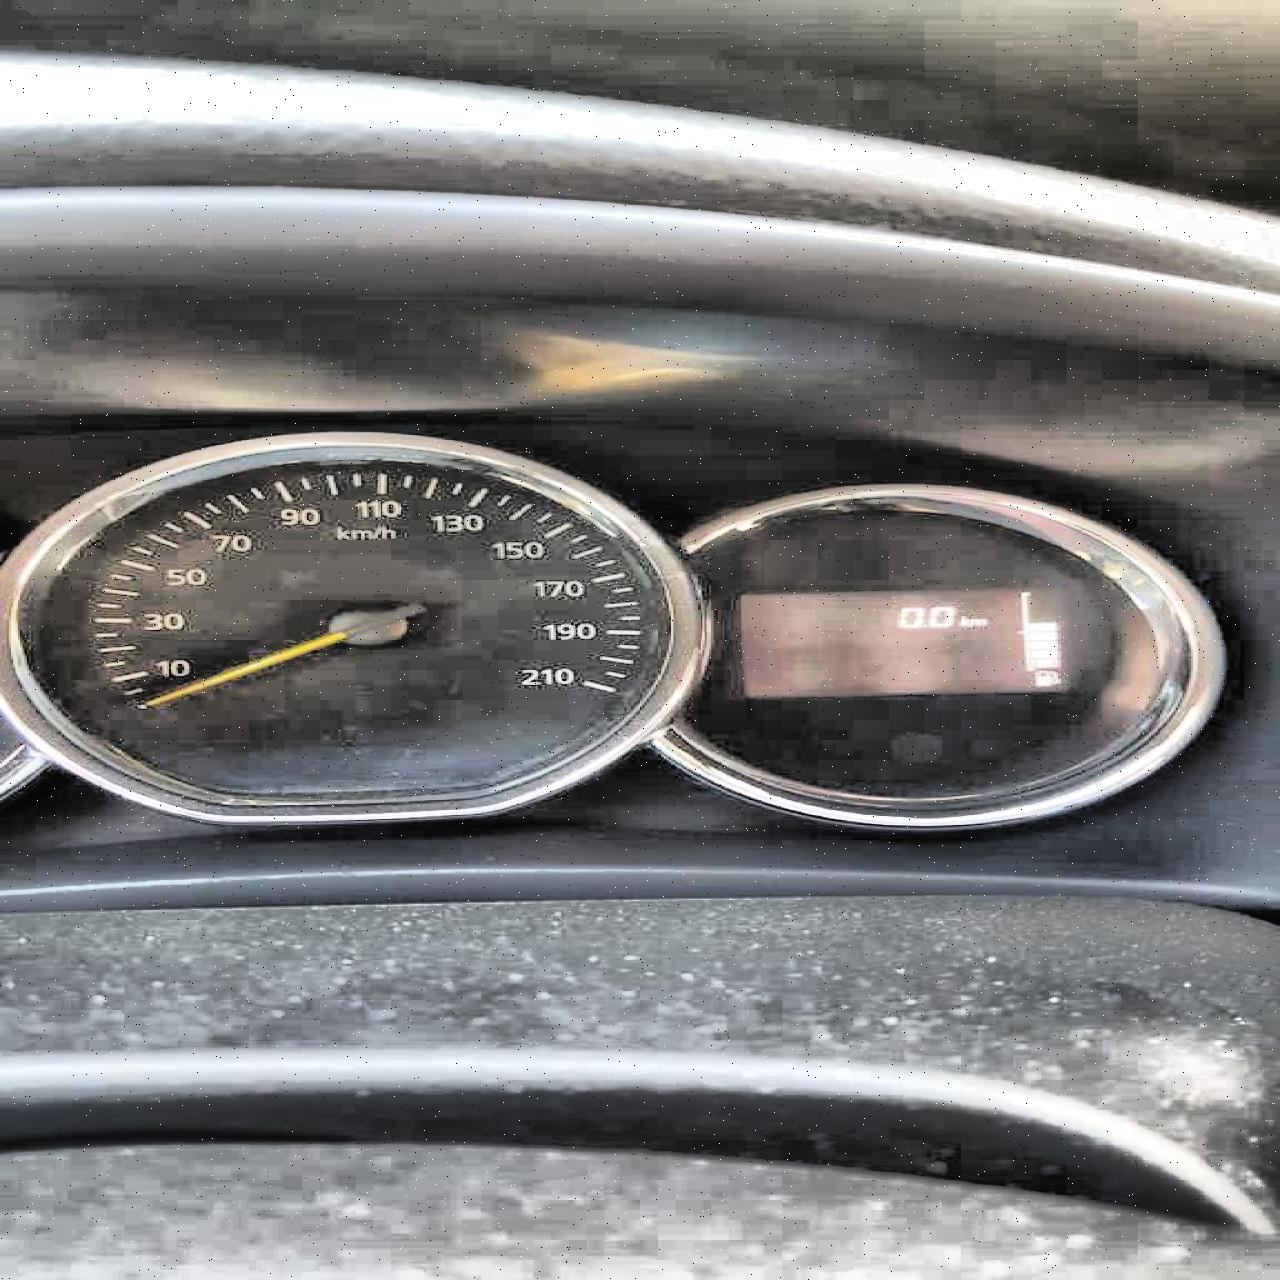-: (920, 622, 927, 628)
0: (927, 605, 953, 627), (896, 605, 920, 627)
X: (958, 614, 969, 626), (969, 618, 987, 625)
odometer: (734, 591, 1076, 697)
